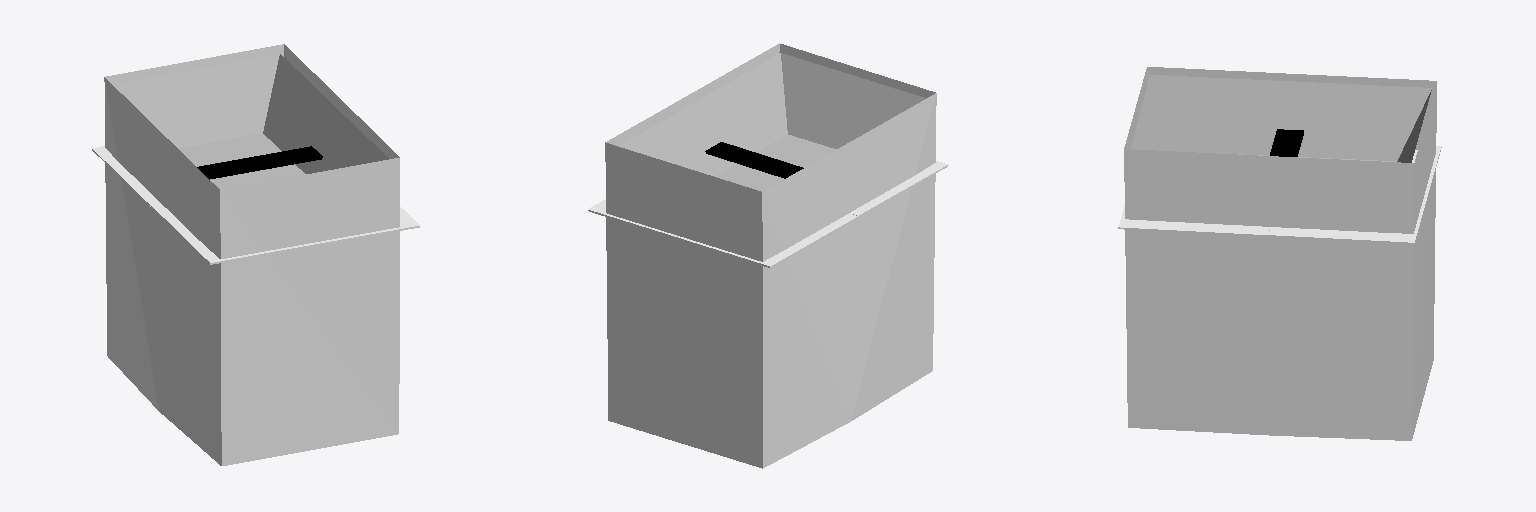
File: CliffAvoidance.obj
3 views of the same model, side by side, from view 1: azimuth 30°, elevation 25°; view 2: azimuth 150°, elevation 25°; view 3: azimuth 270°, elevation 25° (orthographic).
Visible parts, largest first — view 1: FakeArena, Arena, DepthLeft, Board, DepthRight; view 2: FakeArena, Arena, DepthRight, Board, DepthLeft; view 3: FakeArena, Arena, DepthRight, DepthLeft, Board.
Part boxes in pixels (left/top/right/bottom): FakeArena: left=104, top=44, right=399, bottom=465; Arena: left=112, top=54, right=388, bottom=189; DepthLeft: left=151, top=203, right=419, bottom=264; Board: left=197, top=146, right=322, bottom=179; DepthRight: left=92, top=146, right=159, bottom=206; FakeArena: left=605, top=43, right=936, bottom=468; Arena: left=618, top=53, right=926, bottom=191; DepthRight: left=588, top=199, right=858, bottom=267; Board: left=705, top=142, right=803, bottom=178; DepthLeft: left=850, top=161, right=947, bottom=216; FakeArena: left=1124, top=67, right=1436, bottom=440; Arena: left=1130, top=75, right=1431, bottom=162; DepthRight: left=1268, top=146, right=1441, bottom=244; DepthLeft: left=1118, top=206, right=1269, bottom=236; Board: left=1270, top=129, right=1303, bottom=156.
Bounding box in the file's own units: 1.37 × 1.61 × 1.69.